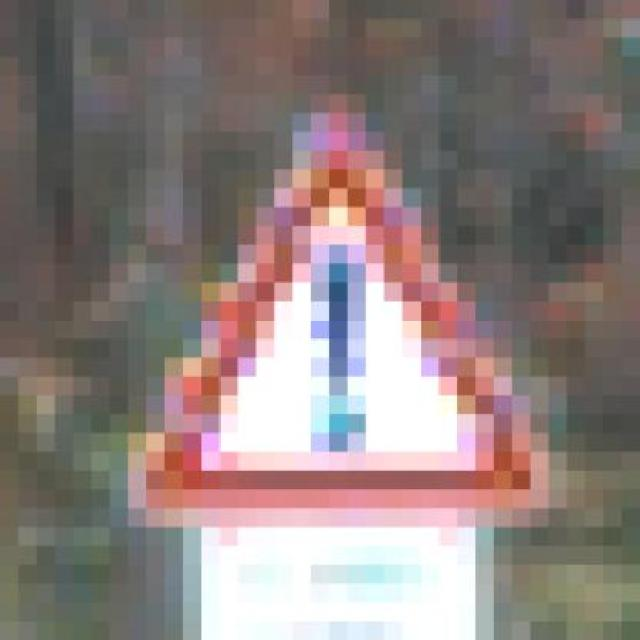Attention Please-: (110, 75, 548, 528)
